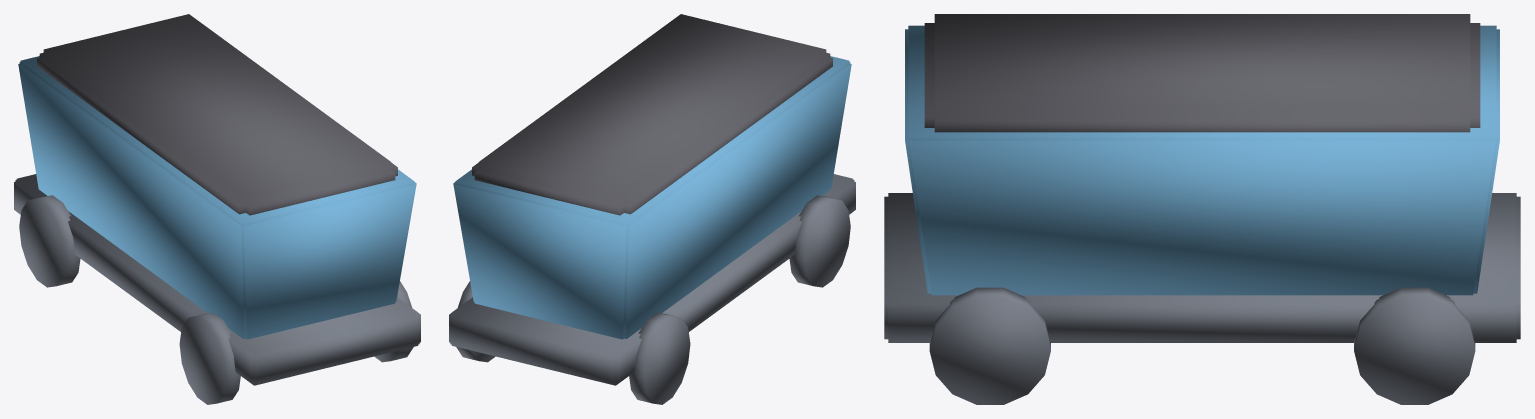
Rendered from freight-hopper.glb.
3 renders of one model, left to right at view 1: azimuth 30°, elevation 25°; view 2: azimuth 150°, elevation 25°; view 3: azimuth 270°, elevation 25°, orthographic. The views are drawn at different scales.
Parts seen in each view (by area): view 1: FreightHopper; view 2: FreightHopper; view 3: FreightHopper.
Boxes of the visible parts, x1,y1,x2,y2 form: FreightHopper: (14,14,420,404); FreightHopper: (449,14,855,404); FreightHopper: (884,14,1520,404).
Size of the model in its own units: 1.44 by 1.54 by 3.15.
